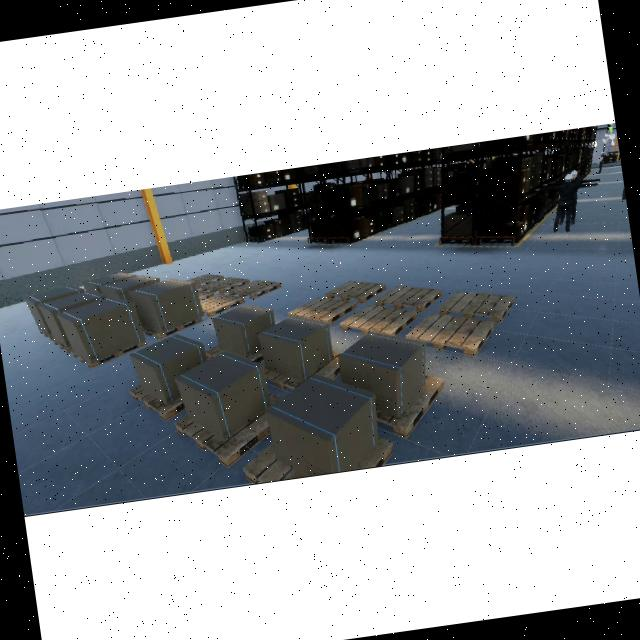wooden_pallet: (172, 391, 283, 468), (376, 373, 445, 438), (243, 441, 341, 485), (406, 312, 496, 357), (338, 303, 418, 337), (439, 290, 515, 322), (128, 383, 187, 421), (72, 341, 148, 369), (288, 297, 358, 326), (375, 284, 443, 312), (325, 279, 387, 303), (143, 316, 203, 339), (354, 435, 393, 470), (228, 280, 282, 300), (200, 293, 246, 316), (202, 276, 250, 294), (186, 273, 225, 289), (197, 289, 215, 300)
